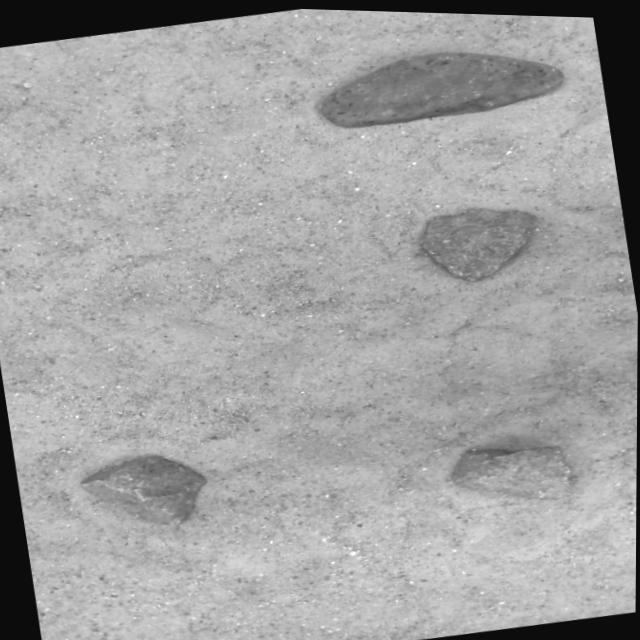rock: (321, 49, 563, 124), (81, 454, 206, 523), (421, 205, 537, 277), (453, 443, 573, 494)
